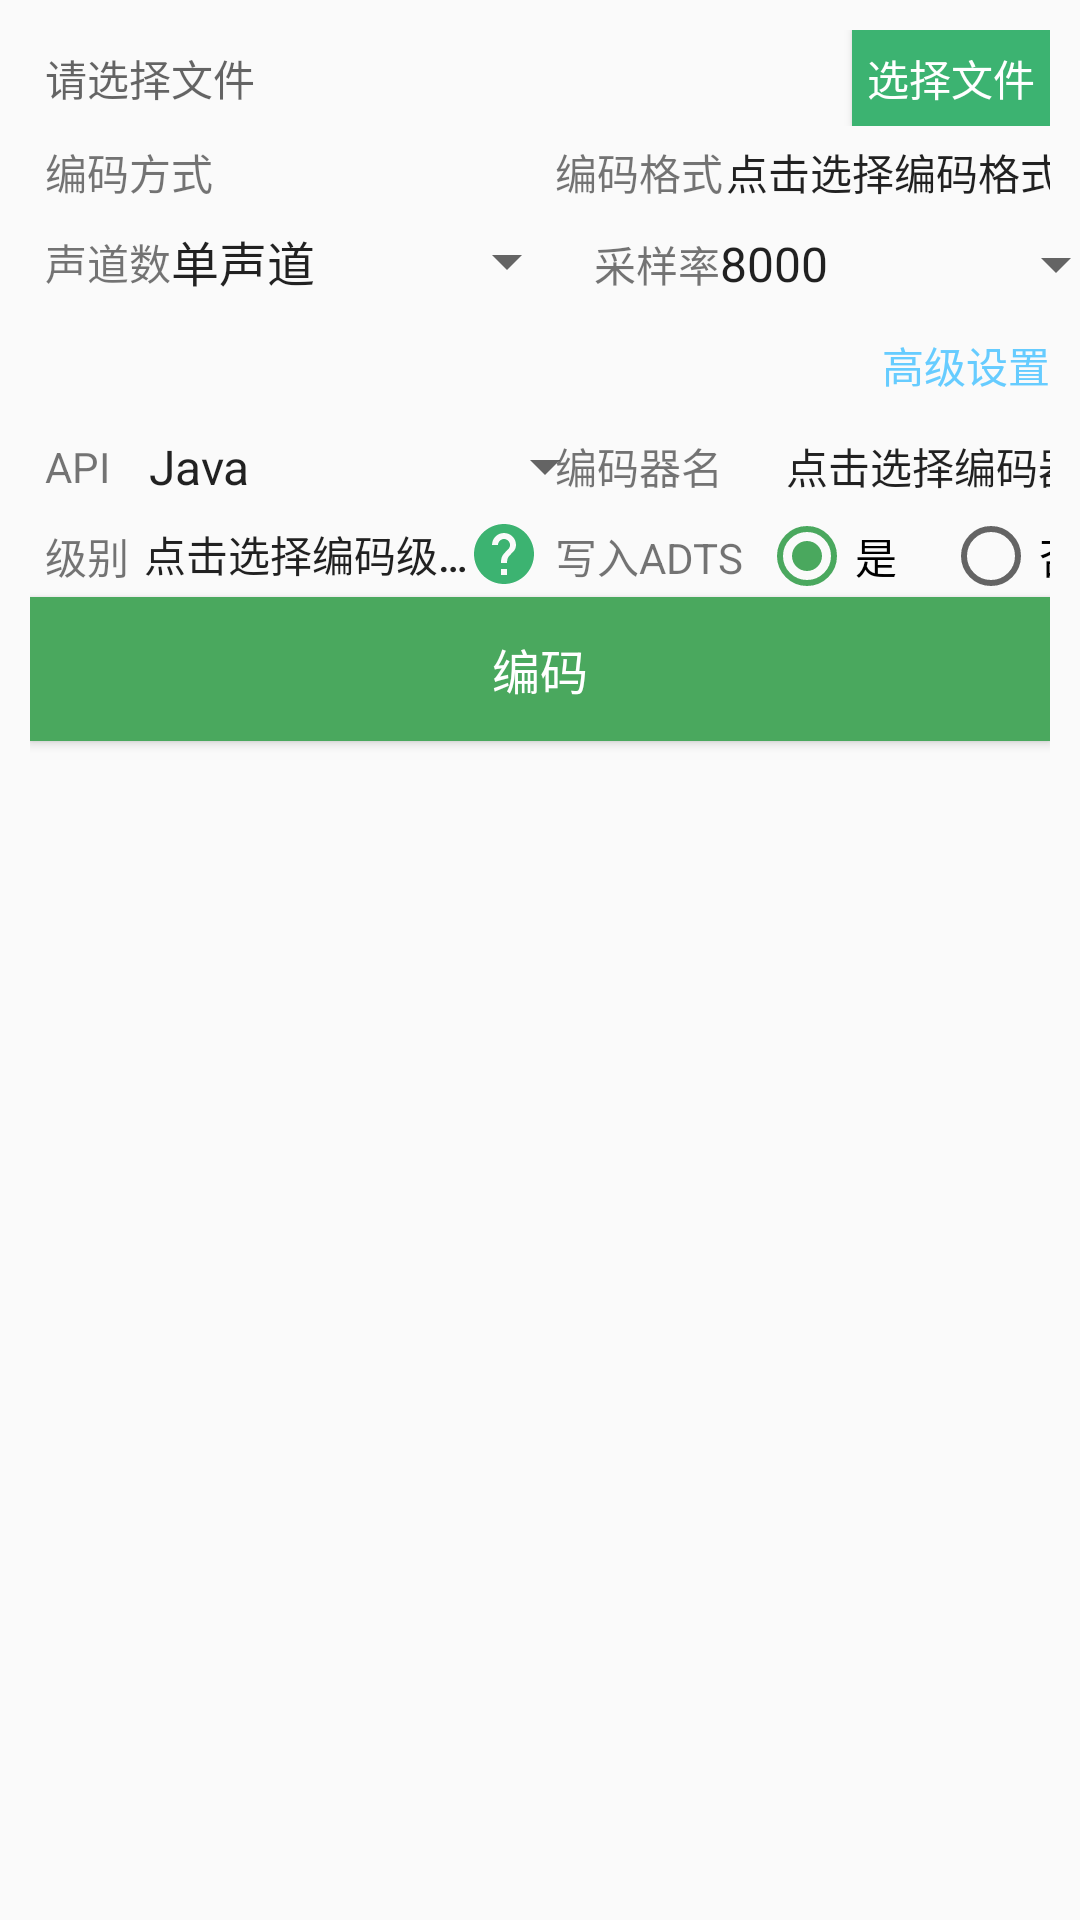

Screen size 1080x1920. Icon name, then its center in pixels as [x,y]:
help: [504,554]
